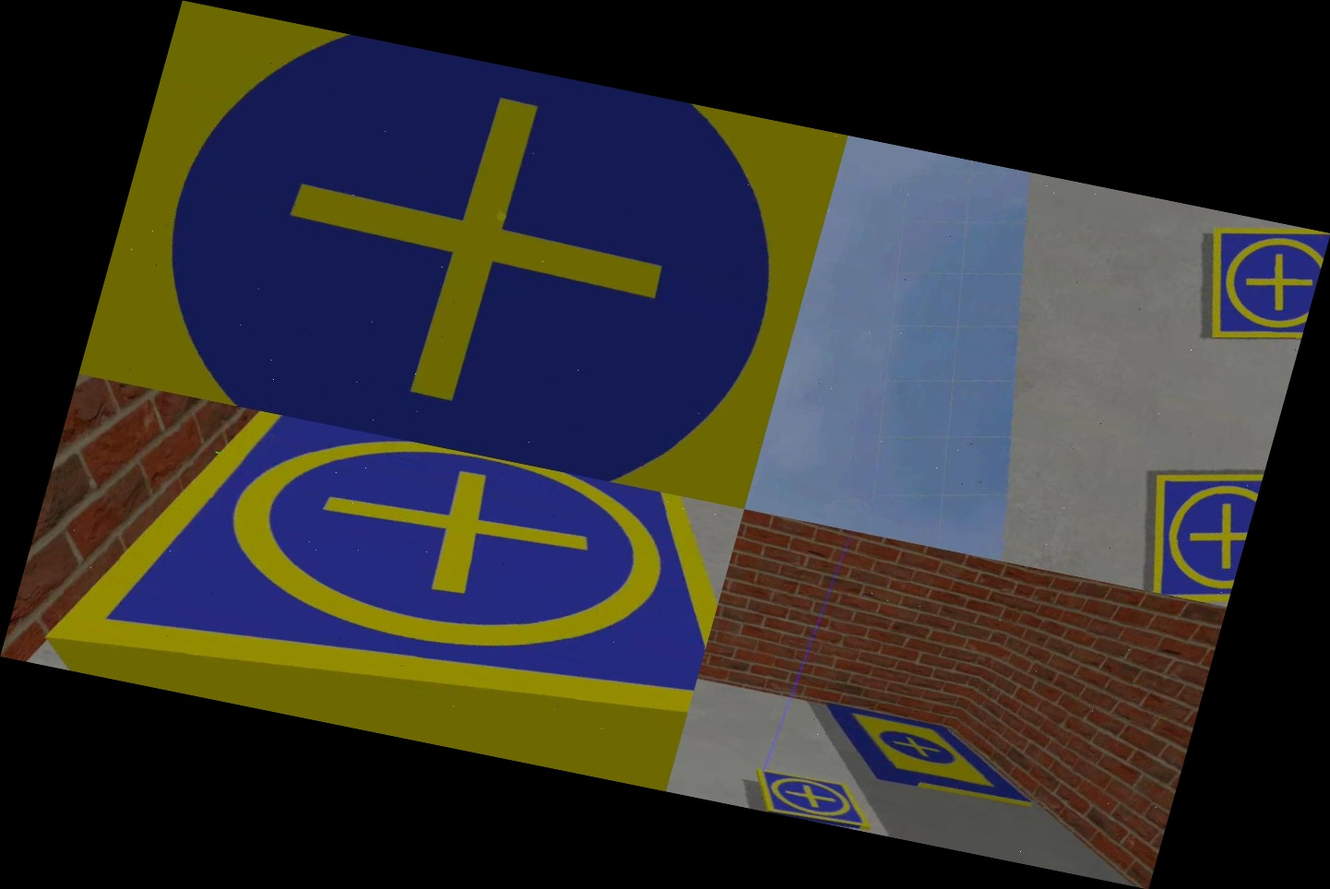large_base: (78, 0, 848, 509), (798, 691, 1056, 819)
small_base: (37, 382, 744, 791), (1111, 439, 1266, 607), (1173, 208, 1330, 362), (743, 763, 889, 834)
